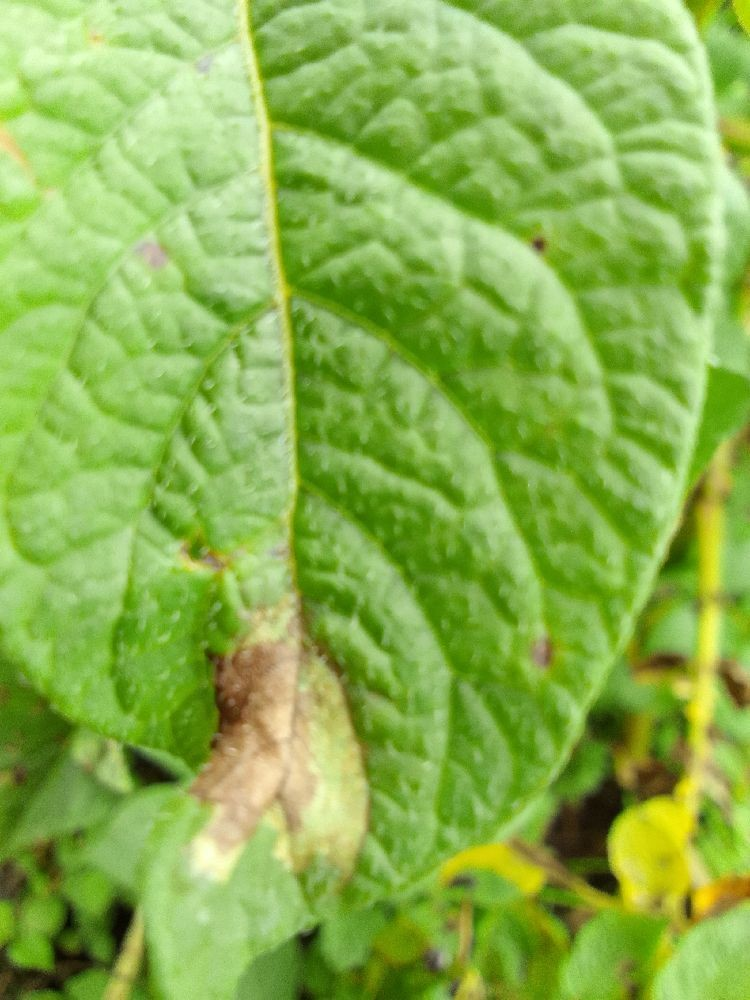late_blight: (172, 582, 385, 886), (0, 888, 166, 1000), (663, 866, 750, 940)
